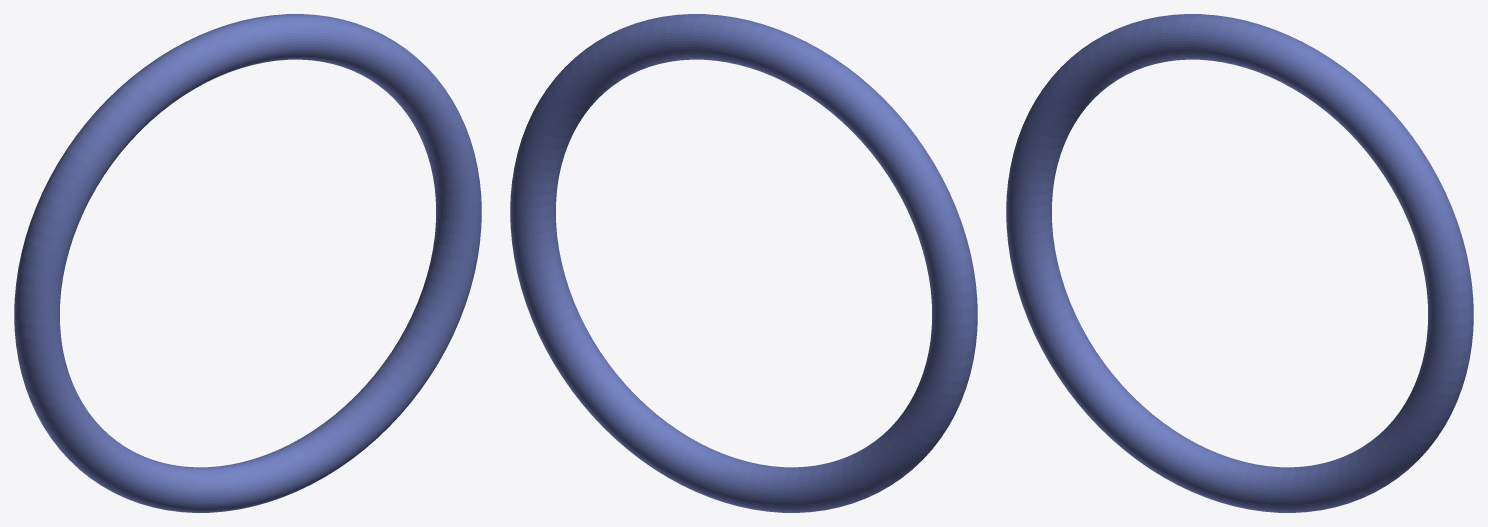
The picture shows the model from 3 angles, left to right: view 1: azimuth 30°, elevation 25°; view 2: azimuth 150°, elevation 25°; view 3: azimuth 330°, elevation 25°; orthographic projection.
Visible parts, largest first — view 1: world; view 2: world; view 3: world.
Boxes of the visible parts, left/top/right/bottom form: world: left=14, top=14, right=481, bottom=512; world: left=510, top=14, right=977, bottom=512; world: left=1006, top=14, right=1473, bottom=512.
Bounding box in the file's own units: 23.33 × 23.33 × 2.
